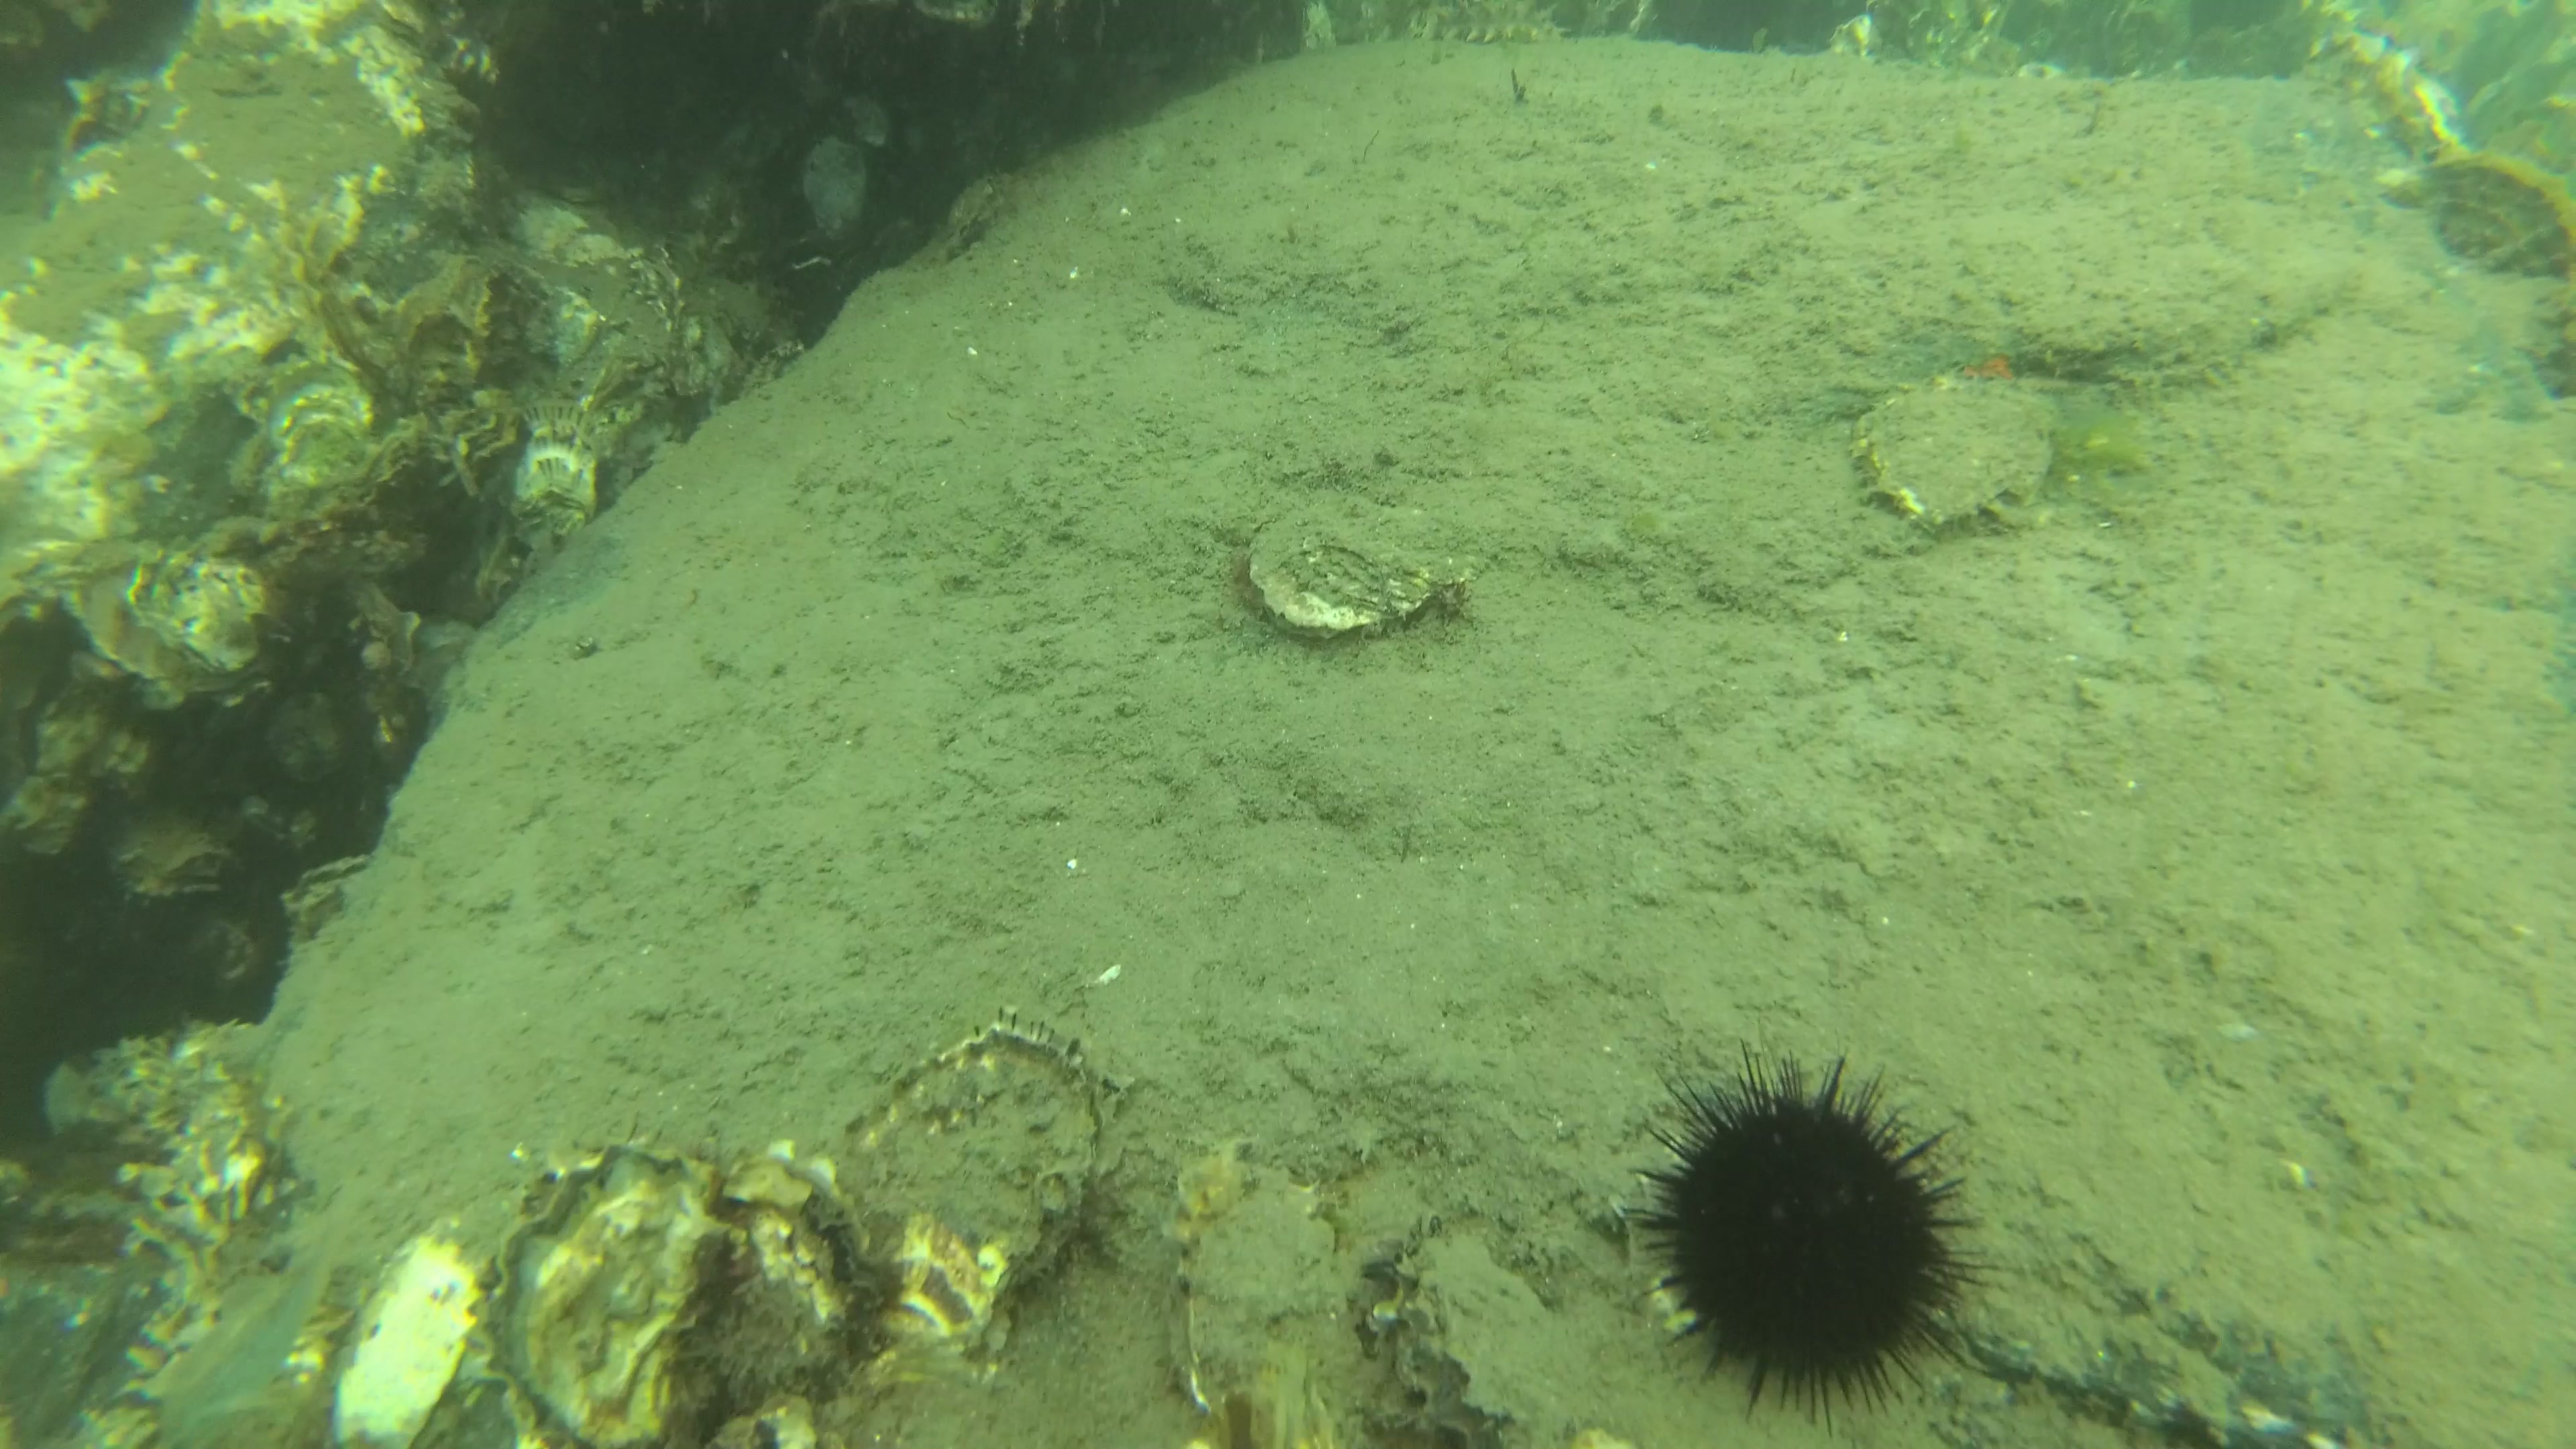echinus: (1626, 1039, 1996, 1440)
holothurian: (1412, 2, 1571, 46)
scallop: (1251, 488, 1484, 637)
